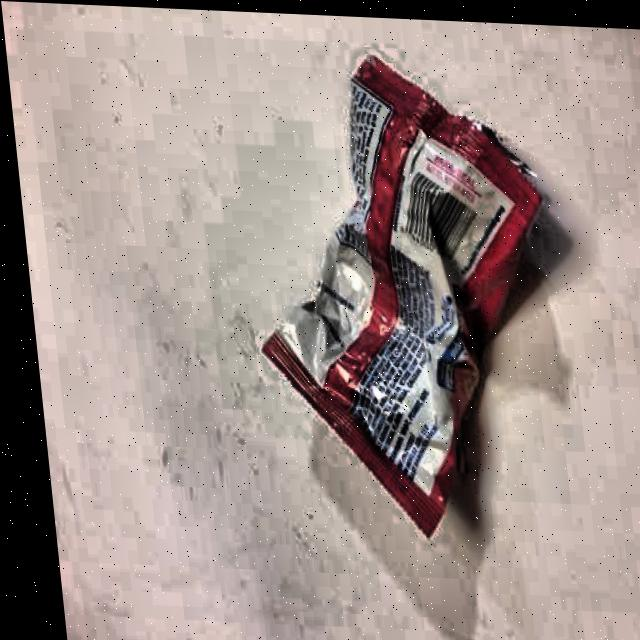plastic: (220, 10, 606, 574)
